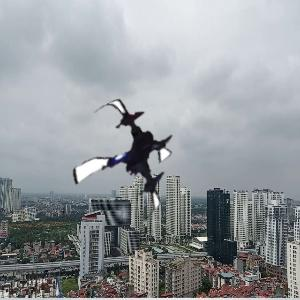drone: (62, 100, 189, 227)
